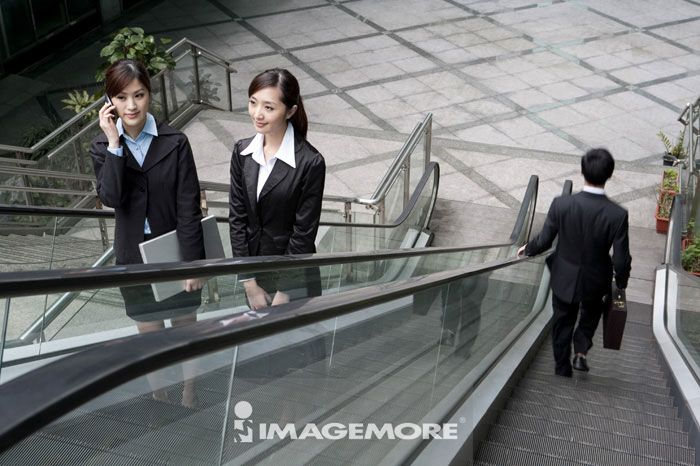talk: (96, 85, 147, 144)
